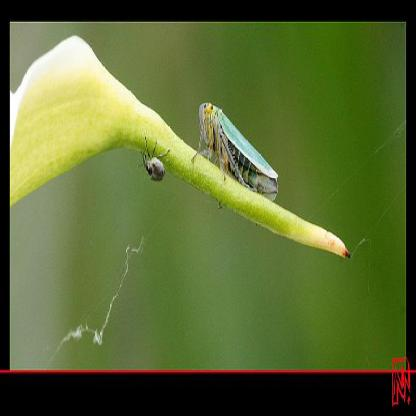Green-Leafhopper: (192, 100, 280, 210)
